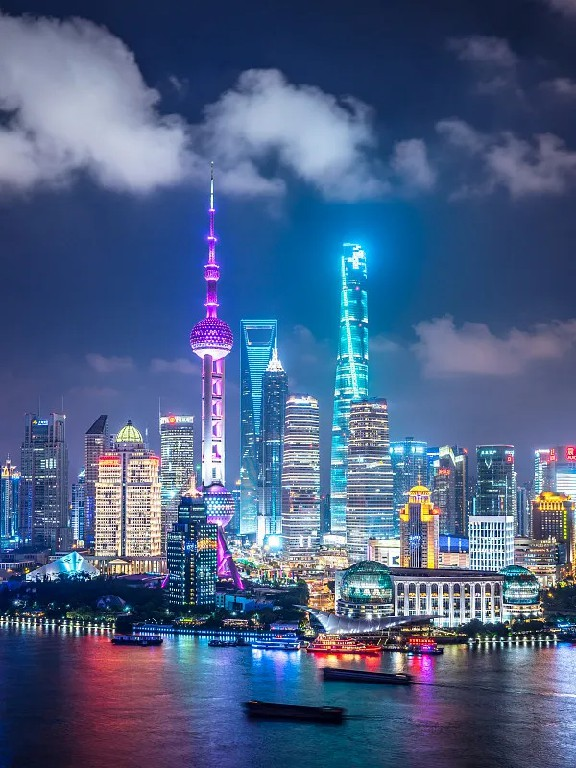Oriental: (189, 159, 243, 587)
